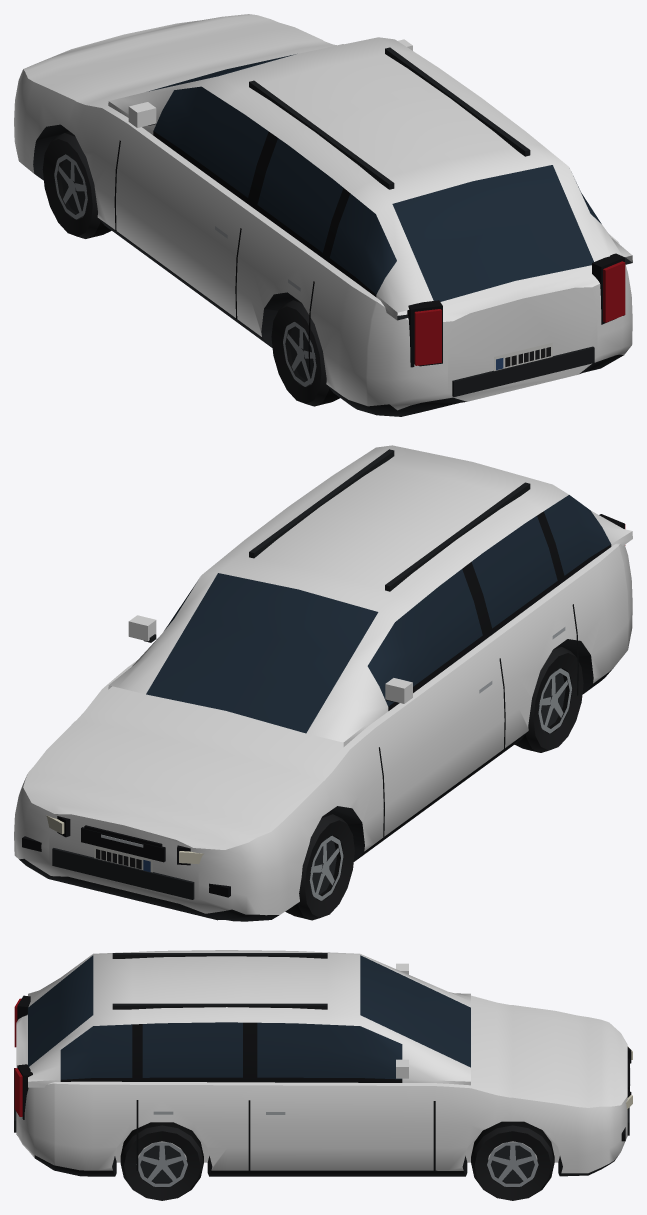
The model's file is wagon.glb.
The picture shows the model from 3 angles, top to bottom: view 1: azimuth 30°, elevation 25°; view 2: azimuth 150°, elevation 25°; view 3: azimuth 270°, elevation 25°; orthographic projection. The views are drawn at different scales.
Parts seen in each view (by area): view 1: wagon; view 2: wagon; view 3: wagon.
Boxes of the visible parts, left/top/right/bottom form: wagon: left=14, top=14, right=632, bottom=416; wagon: left=14, top=445, right=632, bottom=921; wagon: left=14, top=950, right=632, bottom=1200.
Bounding box in the file's own units: 1.87 × 1.49 × 4.75.
